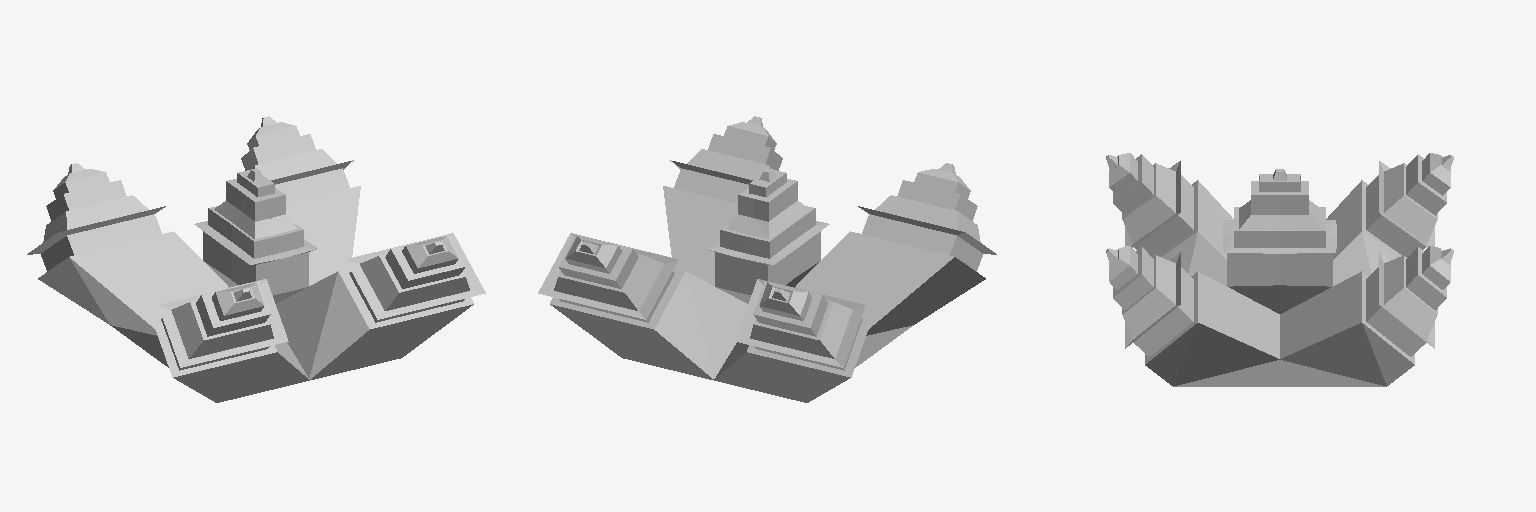
File: TestLifeline.obj
The picture shows the model from 3 angles: view 1: azimuth 30°, elevation 25°; view 2: azimuth 150°, elevation 25°; view 3: azimuth 270°, elevation 25°; orthographic projection.
Parts seen in each view (by area): view 1: Cube; view 2: Cube; view 3: Cube.
Part boxes in pixels (left/top/right/bottom): Cube: left=27, top=116, right=485, bottom=402; Cube: left=538, top=116, right=996, bottom=402; Cube: left=1106, top=153, right=1453, bottom=386.
Size of the model in its own units: 3.3 by 1.76 by 3.25.